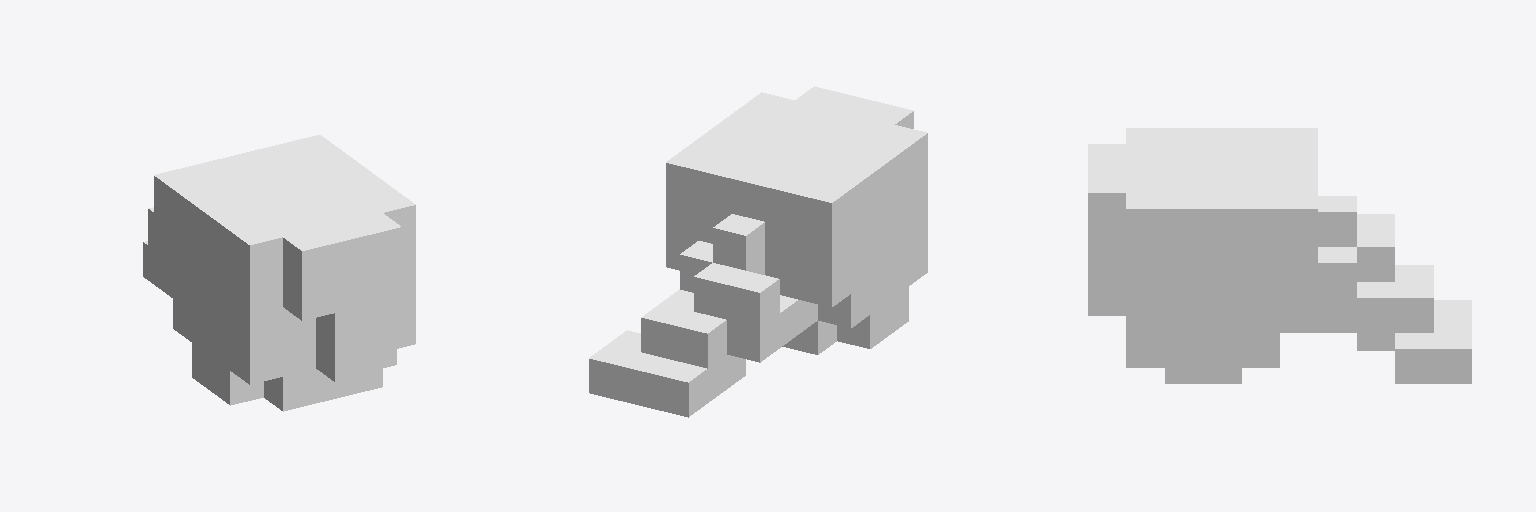
Rendered from parrot-2.obj.
3 renders of one model, left to right at view 1: azimuth 30°, elevation 25°; view 2: azimuth 150°, elevation 25°; view 3: azimuth 270°, elevation 25°, orthographic.
Parts seen in each view (by area): view 1: object 1; view 2: object 1; view 3: object 1.
Boxes of the visible parts, <box> form: object 1: <box>143,135,415,411</box>; object 1: <box>589,86,927,417</box>; object 1: <box>1088,128,1471,383</box>.
Size of the model in its own units: 0.5 by 0.5 by 1.